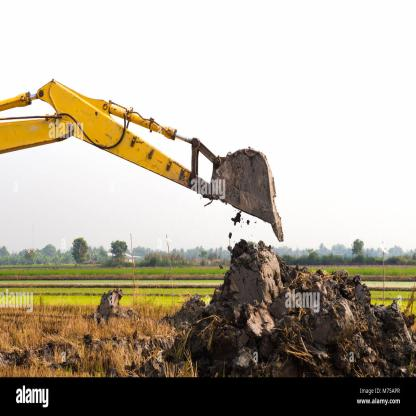excavator: (2, 68, 288, 252)
